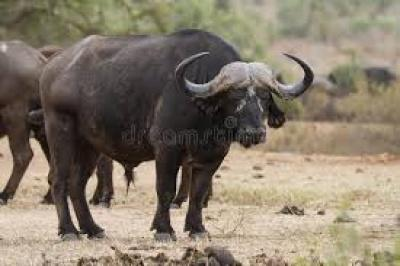buffalo: (37, 30, 315, 242)
